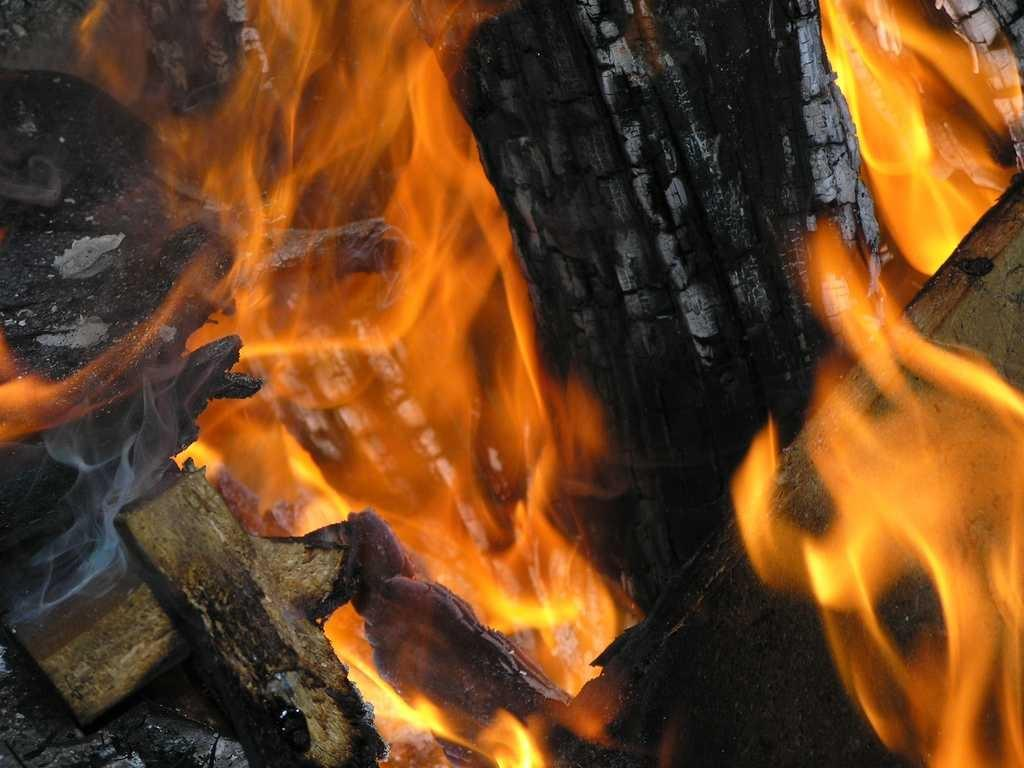fire: (252, 12, 442, 434), (800, 382, 1006, 686), (858, 4, 1004, 212)
